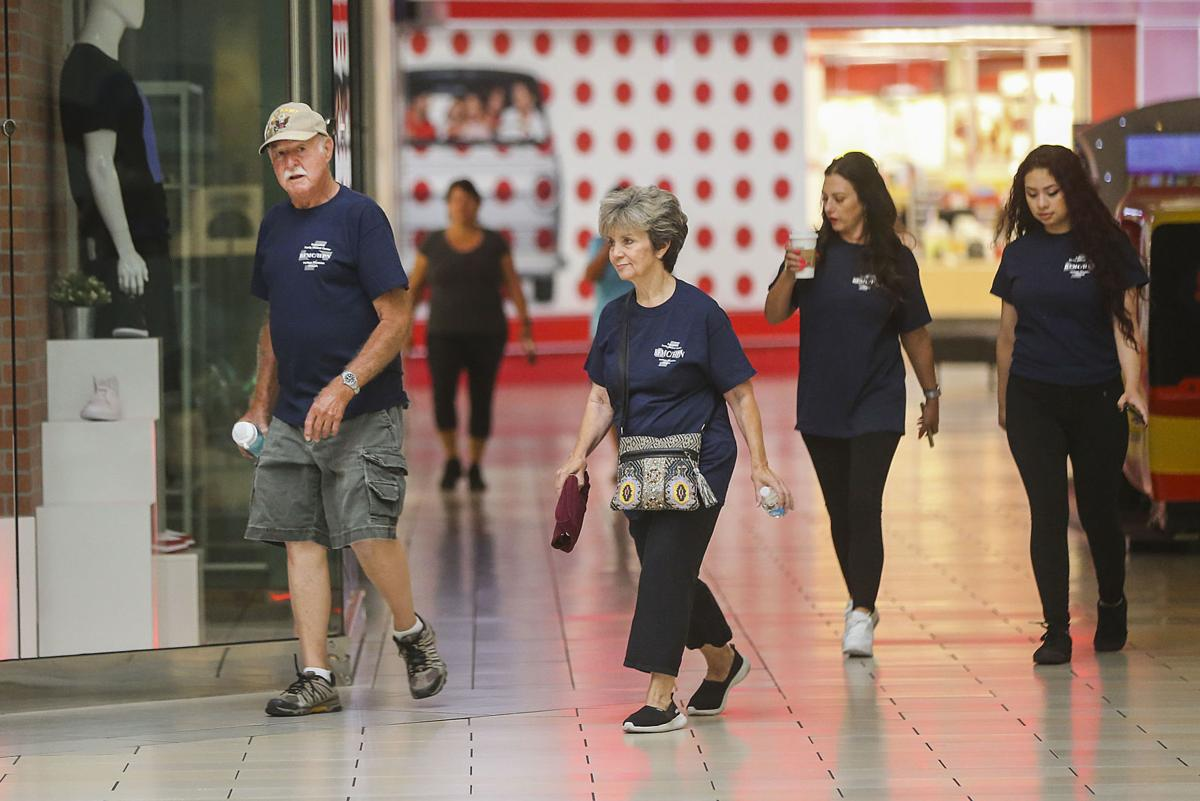Person: (235, 104, 449, 695), (576, 205, 754, 700), (985, 150, 1158, 654), (763, 150, 931, 641)
